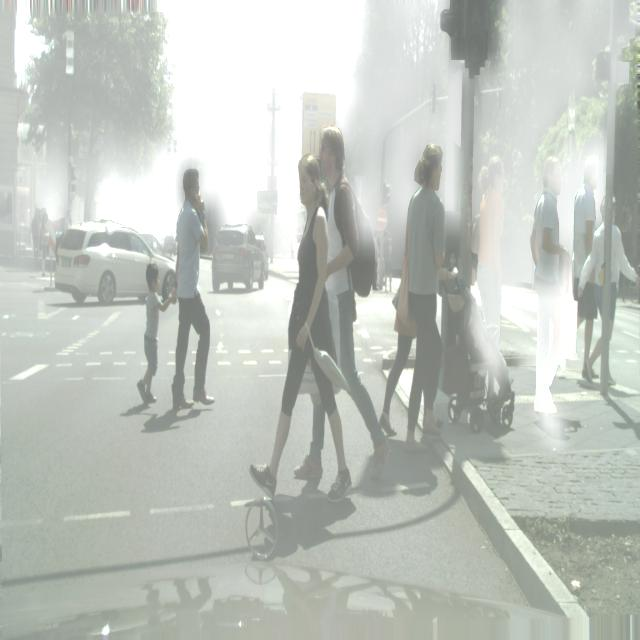person: (378, 143, 515, 448), (249, 153, 352, 504), (301, 124, 390, 490), (577, 194, 640, 395), (531, 156, 573, 429), (171, 168, 215, 409), (572, 152, 599, 383), (476, 156, 505, 352), (137, 261, 177, 403), (39, 211, 49, 278), (31, 209, 40, 262)
truck: (54, 222, 178, 306), (211, 223, 266, 293), (255, 234, 269, 282)
